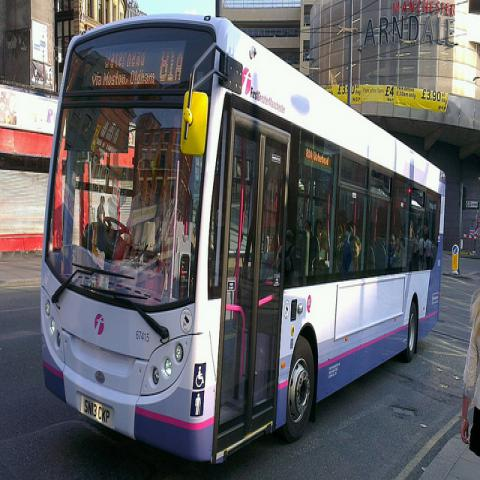bus: (39, 14, 444, 465)
